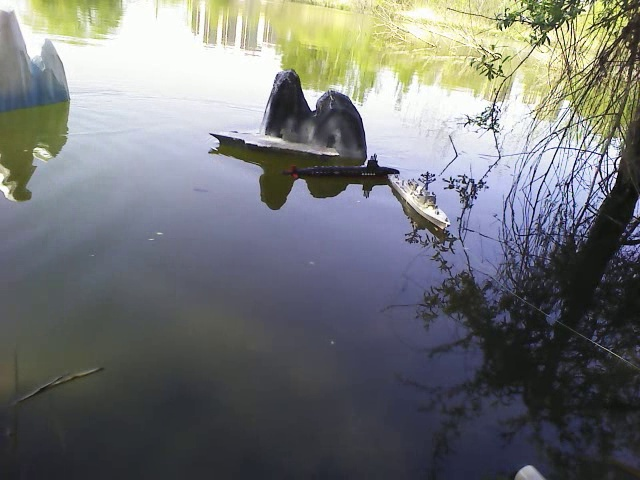aircraft_carrier: (207, 127, 342, 163)
iceberg: (2, 5, 70, 114)
rock: (263, 72, 379, 145)
submarine: (286, 163, 404, 183)
warship: (389, 171, 453, 231)
